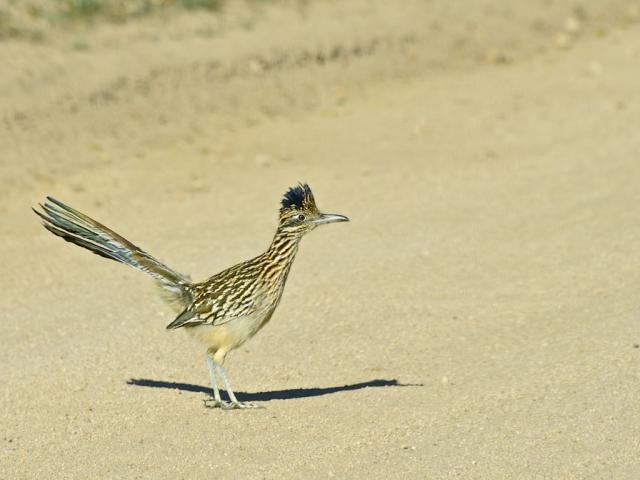Bird: (32, 179, 350, 409)
